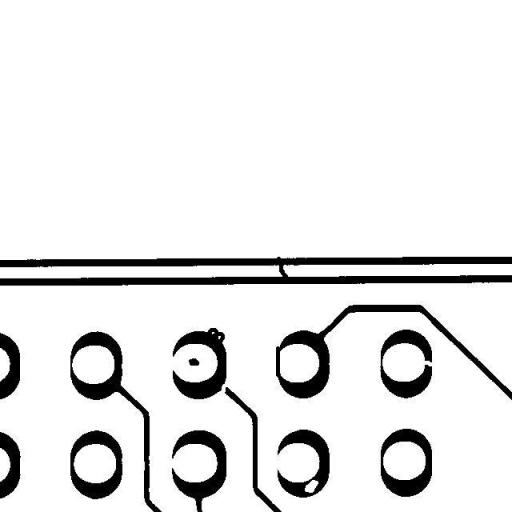copper: (181, 350, 206, 373)
open: (211, 374, 238, 403), (410, 350, 442, 374)
pin-hole: (296, 472, 326, 500)
short: (269, 249, 295, 286), (268, 338, 288, 384)
spur: (196, 320, 232, 353)
